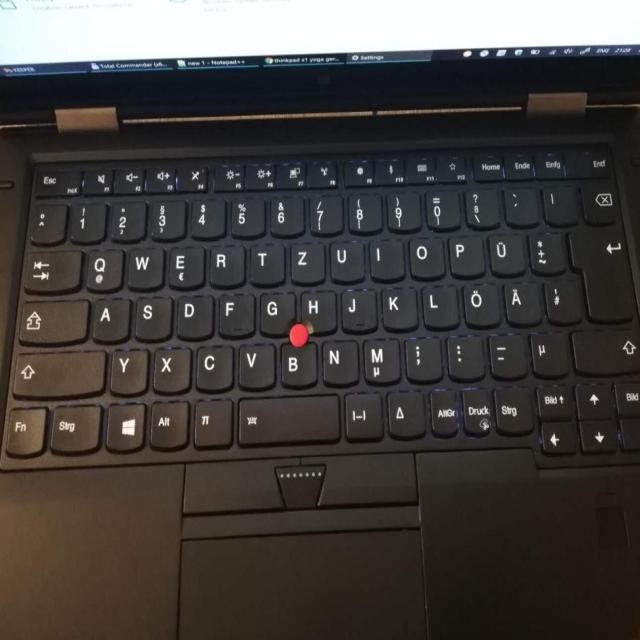0: (423, 188, 460, 228)
1: (69, 199, 106, 241)
2: (109, 199, 145, 241)
3: (148, 197, 185, 240)
4: (189, 196, 225, 237)
5: (229, 196, 264, 236)
6: (269, 195, 304, 235)
7: (309, 193, 342, 233)
8: (346, 192, 381, 232)
9: (385, 190, 420, 231)
a: (92, 295, 130, 340)
accent: (503, 186, 537, 225)
ae: (503, 279, 539, 323)
alt-left: (148, 398, 188, 448)
altgr-right: (429, 386, 458, 436)
b: (279, 339, 317, 387)
c: (194, 342, 233, 390)
caret: (28, 201, 66, 243)
comma: (403, 334, 441, 380)
d: (175, 292, 213, 338)
del: (580, 180, 622, 220)
e: (167, 243, 203, 286)
enter: (568, 223, 636, 322)
f: (217, 291, 254, 336)
g: (258, 289, 294, 335)
h: (299, 289, 335, 331)
hash: (543, 276, 581, 322)
i: (368, 237, 403, 280)
j: (340, 287, 375, 331)
k: (380, 285, 417, 329)
keyboard: (0, 141, 640, 469)
l: (421, 283, 457, 328)
m: (361, 336, 399, 382)
minus: (488, 331, 525, 377)
n: (320, 337, 358, 384)
o: (407, 234, 444, 278)
oe: (462, 280, 499, 326)
p: (447, 233, 483, 276)
plus: (528, 229, 563, 274)
point: (446, 333, 483, 378)
q: (85, 246, 124, 290)
r: (207, 242, 244, 286)
s: (133, 294, 172, 340)
shift-left: (13, 348, 106, 397)
shift-lock: (17, 297, 89, 344)
shift-right: (571, 326, 640, 375)
space: (238, 391, 339, 445)
ss: (464, 187, 499, 227)
strg-left: (48, 403, 102, 452)
strg-right: (495, 383, 534, 433)
t: (248, 240, 284, 284)
tab: (22, 248, 81, 292)
u: (329, 239, 364, 282)
ue: (487, 231, 524, 275)
v: (239, 343, 277, 390)
w: (127, 244, 164, 288)
x: (152, 344, 190, 392)
y: (109, 347, 147, 393)
z: (289, 239, 324, 282)
